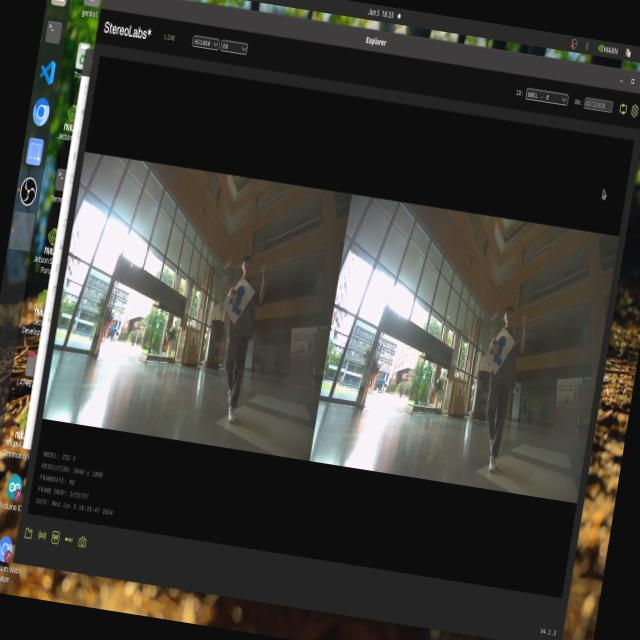blue: (221, 276, 253, 332), (484, 329, 507, 373)
